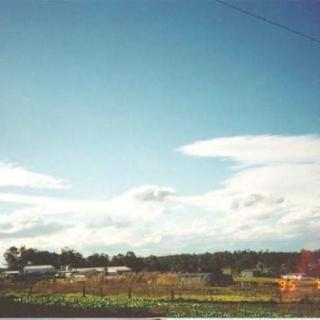Stratocumulus: (10, 130, 320, 242)
